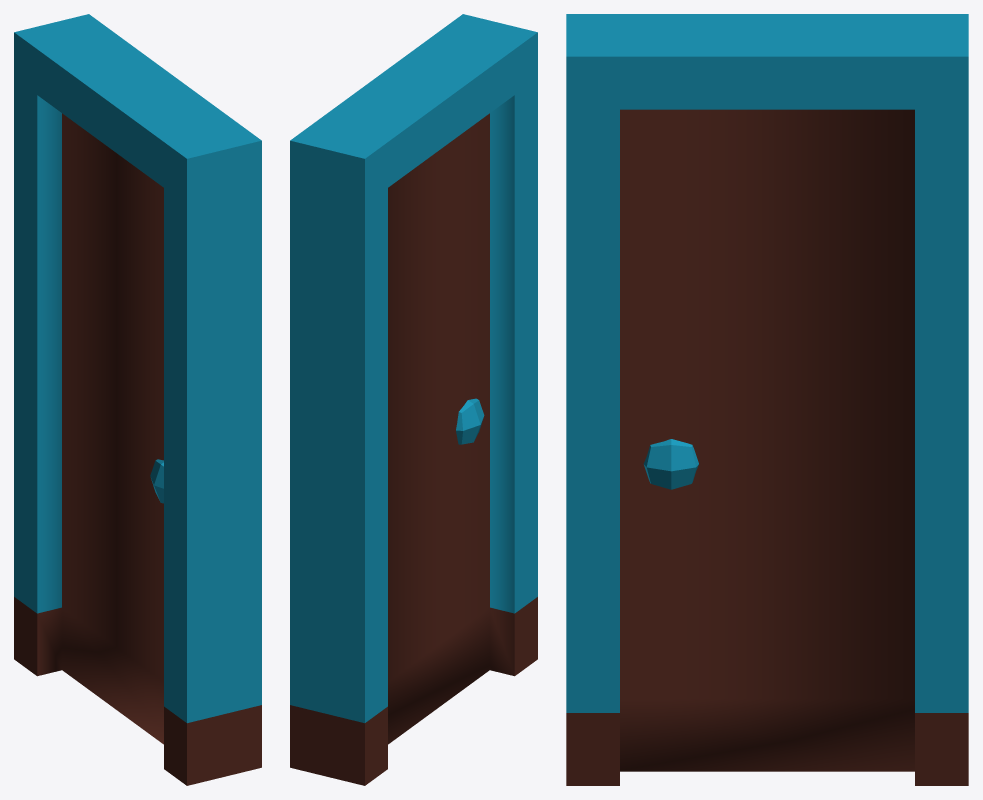
File: wallDoorClosed.fbx
3 renders of one model, left to right at view 1: azimuth 30°, elevation 25°; view 2: azimuth 150°, elevation 25°; view 3: azimuth 270°, elevation 25°, orthographic. The views are drawn at different scales.
Parts seen in each view (by area): view 1: WallDoorClosed; view 2: WallDoorClosed; view 3: WallDoorClosed.
Boxes of the visible parts, left/top/right/bottom form: WallDoorClosed: left=14, top=14, right=261, bottom=785; WallDoorClosed: left=290, top=14, right=537, bottom=785; WallDoorClosed: left=566, top=14, right=968, bottom=785.
Bounding box in the file's own units: 50 × 400 × 200.
